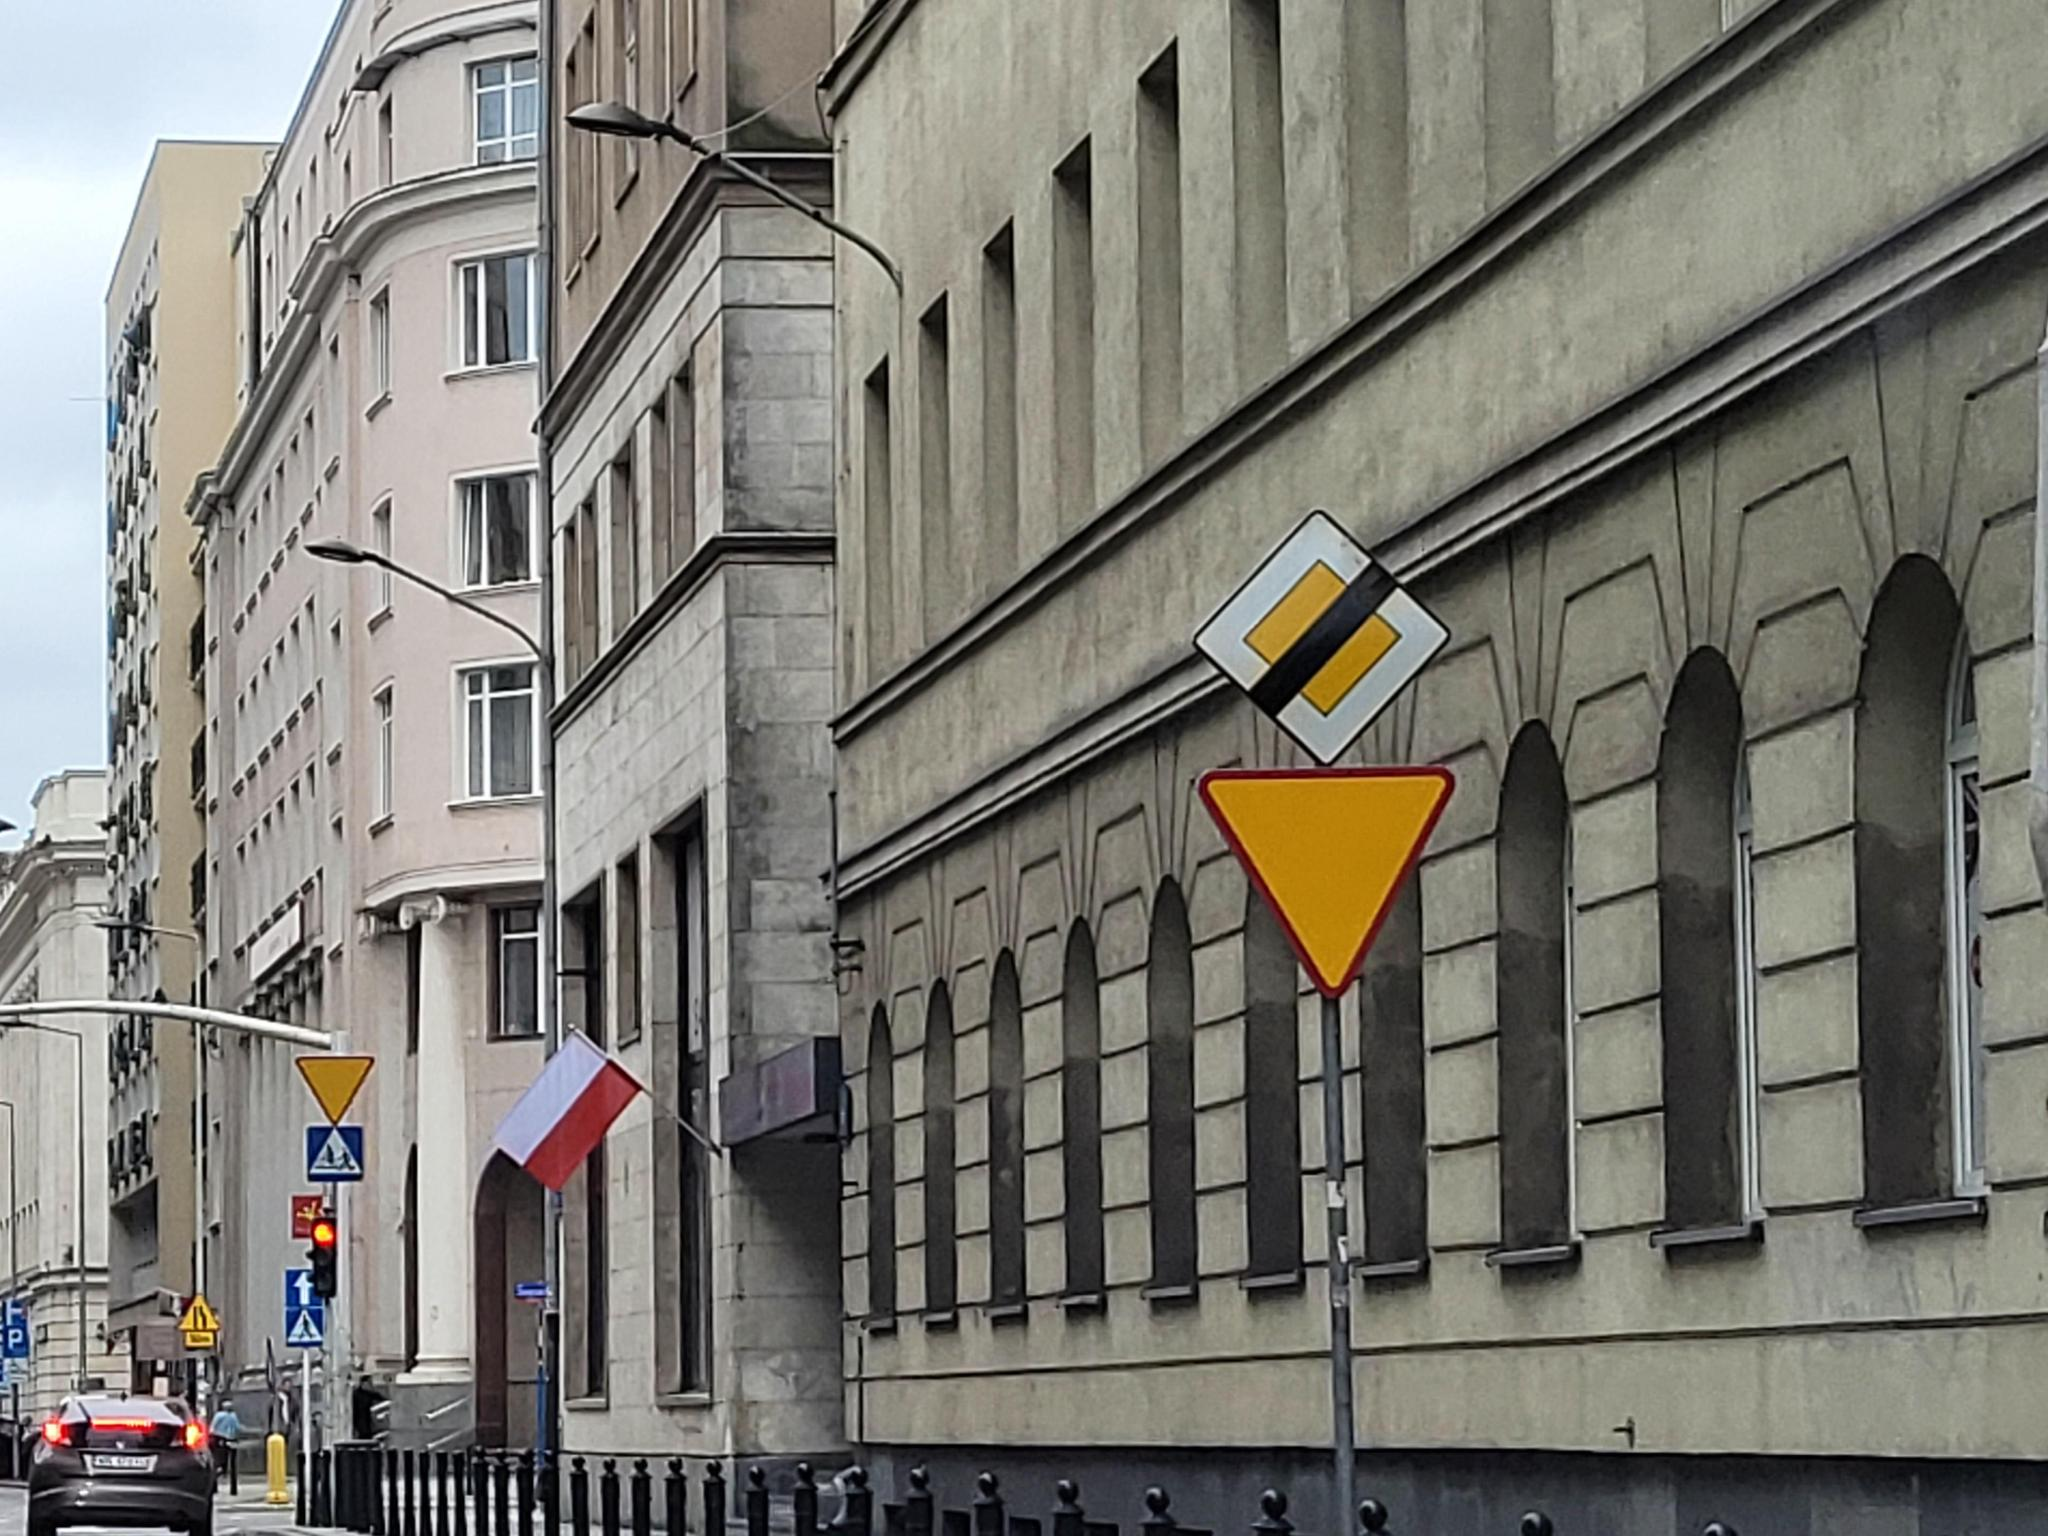information: (1192, 507, 1455, 765), (308, 1128, 363, 1179), (287, 1309, 323, 1346), (285, 1270, 319, 1305), (2, 1326, 27, 1357), (0, 1297, 27, 1325)
warning: (1197, 763, 1456, 1000), (293, 1055, 376, 1126), (176, 1294, 219, 1331)
